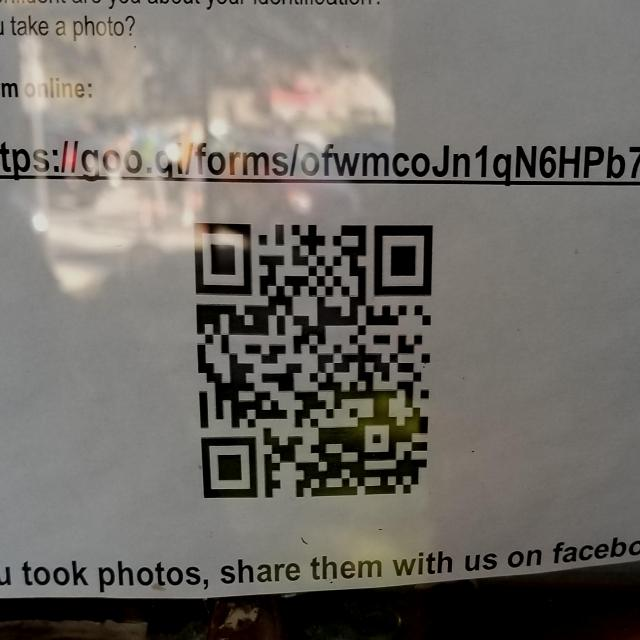QRCode: (178, 201, 440, 507)
